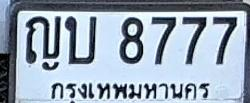7: (151, 16, 176, 65), (212, 16, 237, 65), (182, 16, 206, 65)
8: (119, 16, 143, 64)
A13: (26, 14, 63, 72)
A26: (64, 15, 96, 64)
BKK: (45, 78, 219, 103)
